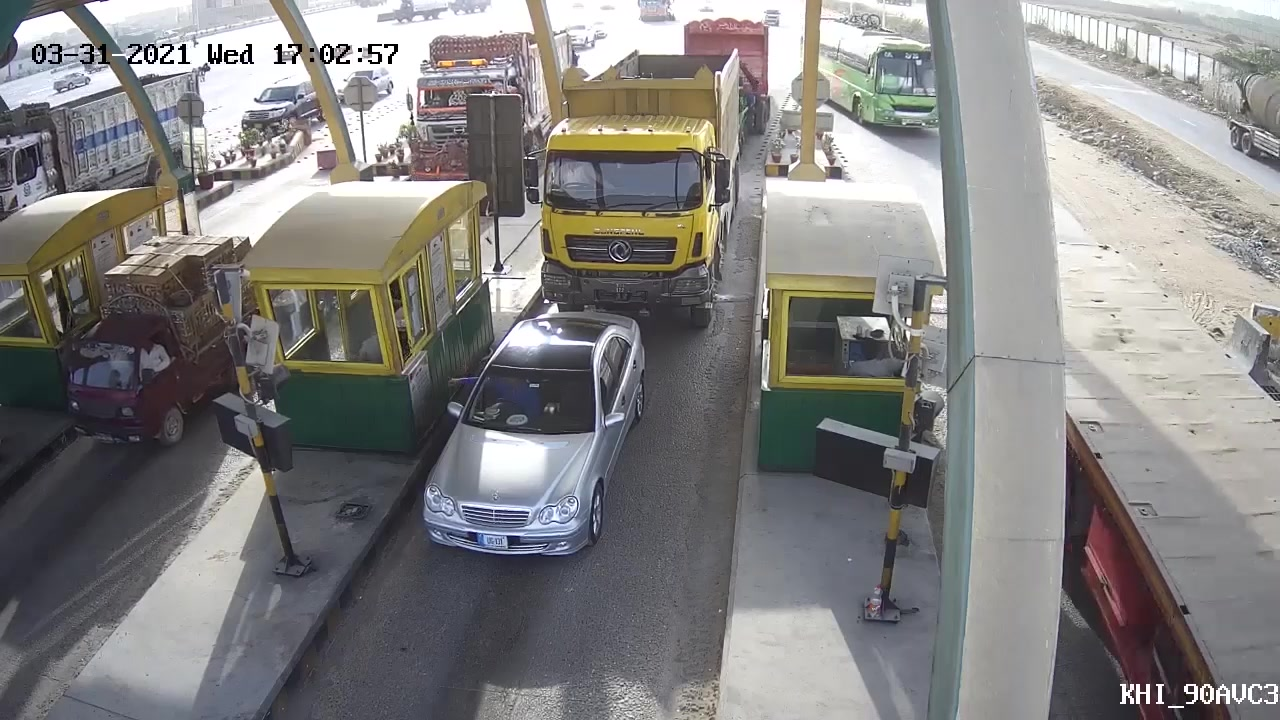F1: (408, 307, 651, 574)
F5: (522, 42, 746, 329)
